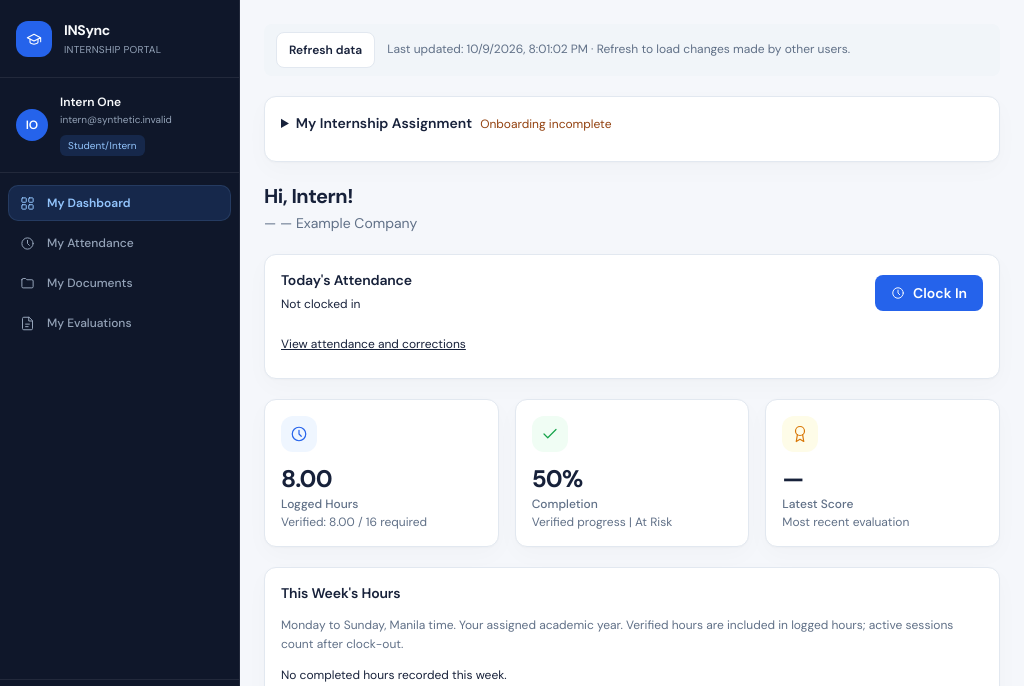
keeps a compact weekly chart on the dashboard and detailed chart controls in Attendance
The image size is (1024, 686).
Check: the text "Clearance:" is not shown
Click the button "My Attendance". click: x=120, y=243
box: [8,225,231,261]
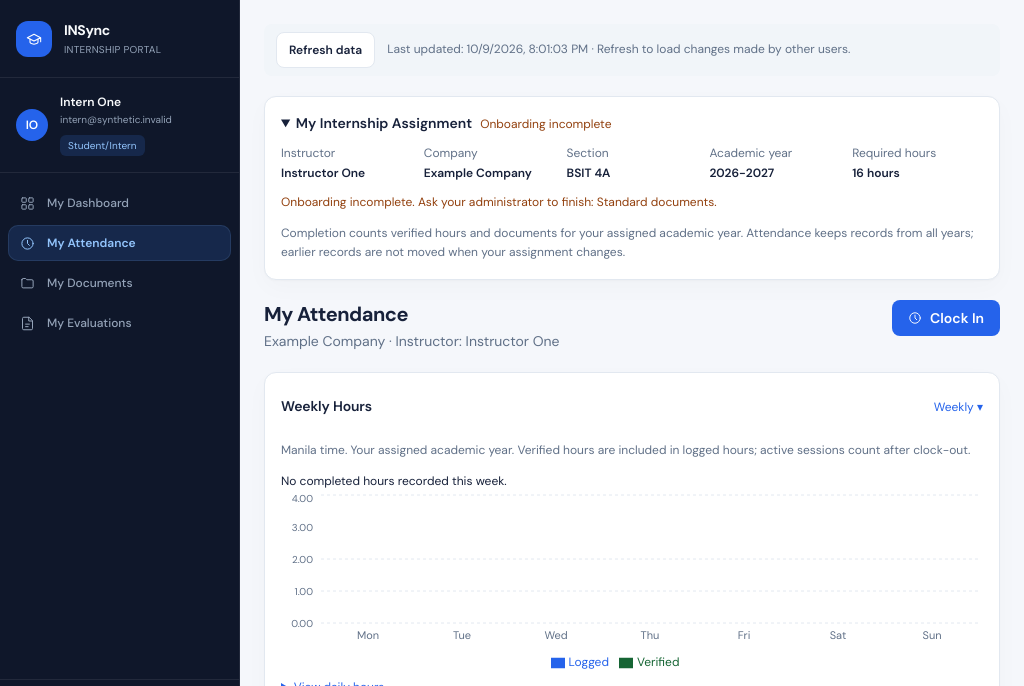
Check: the text "Weekly Hours" is shown, box [281,397,372,417]
Click the button "Weekly ▾". click: x=958, y=407
box: [934,389,983,425]
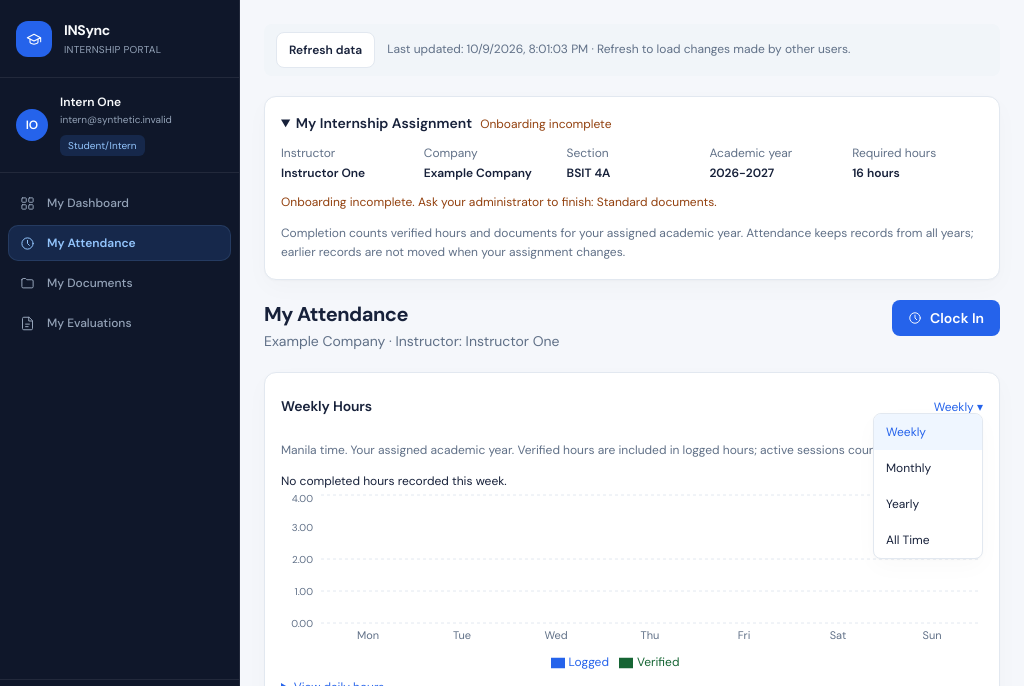
Check: the button "Monthly" is shown
Click the button "Monthly". click: x=928, y=468
box: [874,450,982,486]
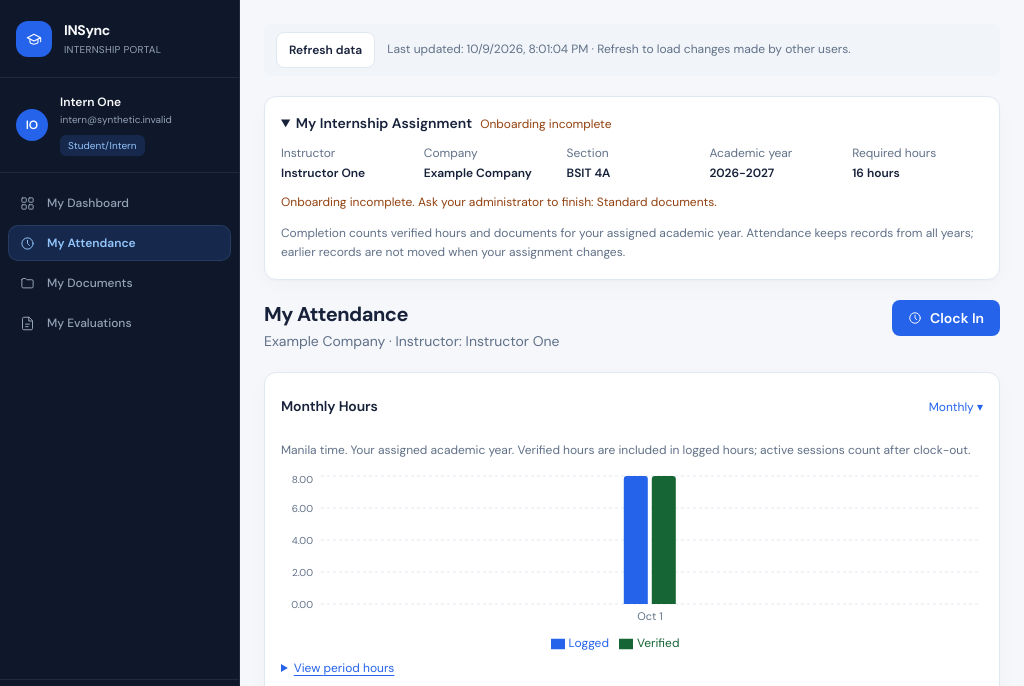
Click the button "My Dashboard". click: x=120, y=203
box: [8,185,231,221]
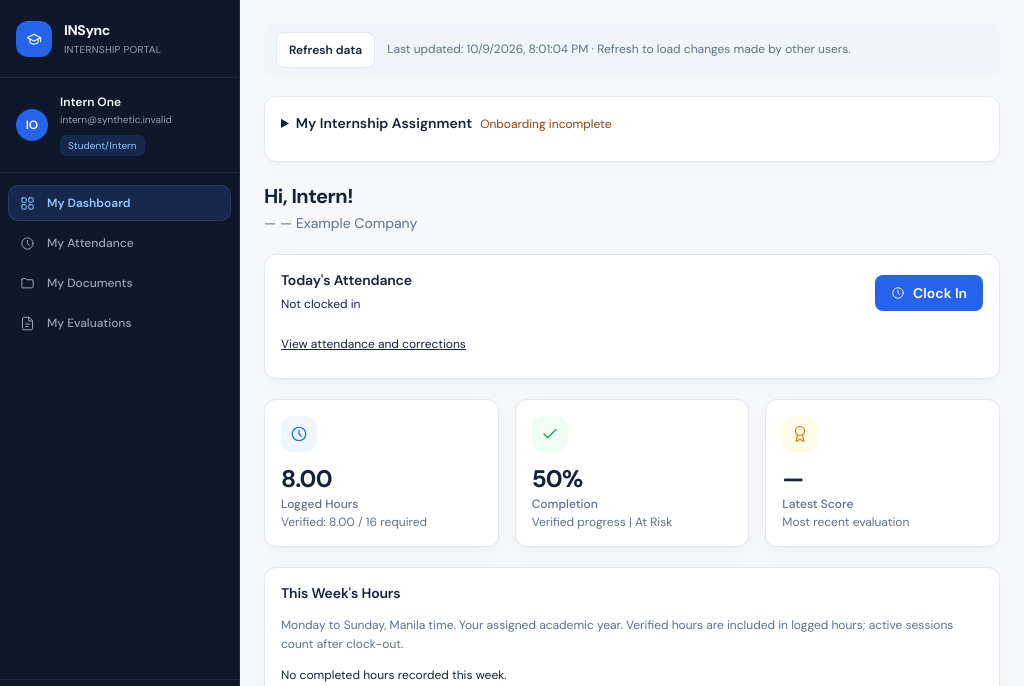
Check: the text "Monthly" is gone
Click the button "My Documents". click: x=120, y=283
box: [8,265,231,301]
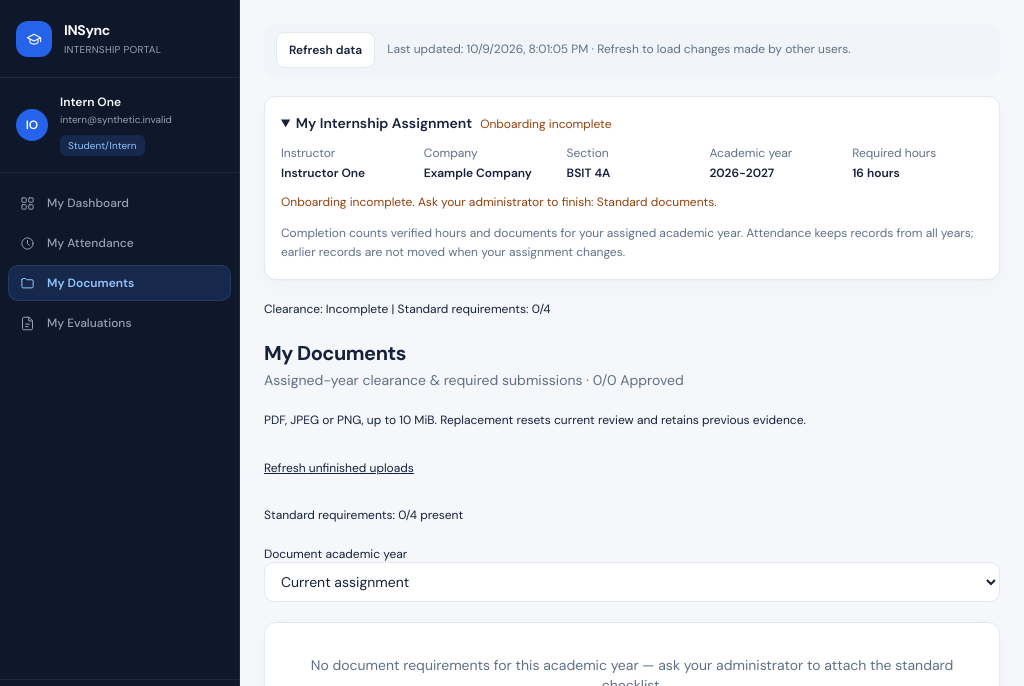
Check: the text "Clearance:" is shown, box [264,301,326,317]
